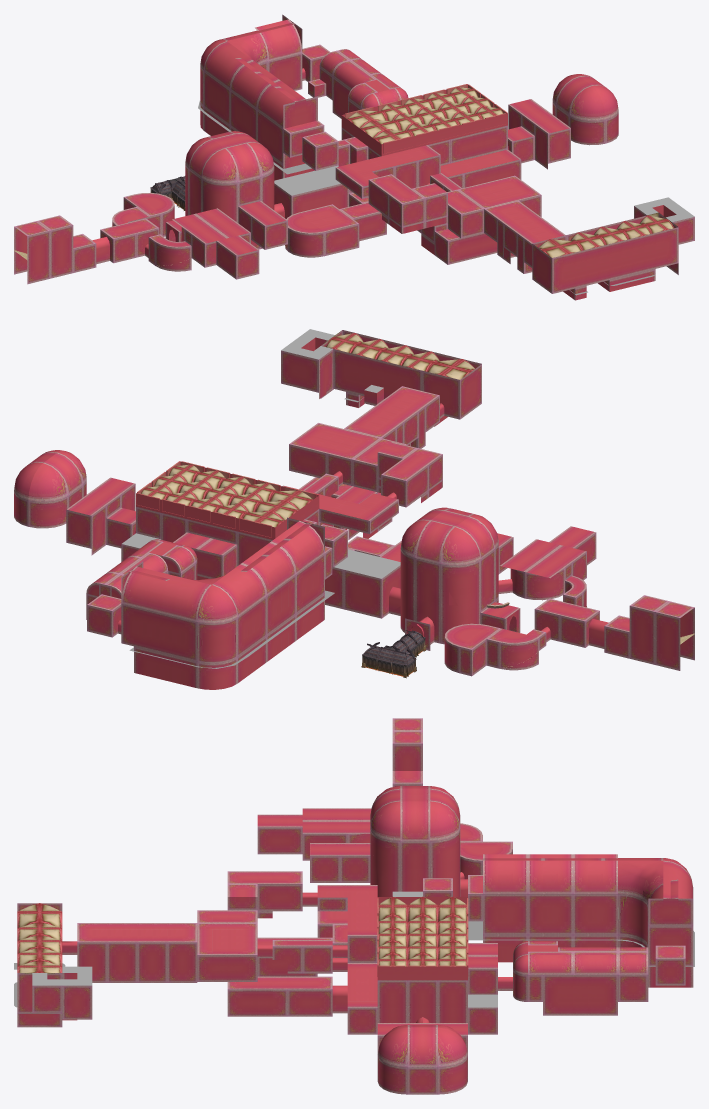
File: Ballroom01.fbx
3 renders of one model, top to bottom at view 1: azimuth 30°, elevation 25°; view 2: azimuth 150°, elevation 25°; view 3: azimuth 270°, elevation 25°, orthographic. The views are drawn at different scales.
Parts seen in each view (by area): view 1: PuzzleRoom01_room12_5_wall01, PuzzleRoom01_room08_wall01, PuzzleRoom01_room10_ceiling01, PuzzleRoom01_room10_wall01, PuzzleRoom01_room04_wall03, PuzzleRoom01_room07_wall01, PuzzleRoom01_room04_ceiling05, PuzzleRoom01_room12_ceiling02, PuzzleRoom01_room07_Ceiling01, PuzzleRoom01_room01_wall01, PuzzleRoom01_room01_ceiling01, PuzzleRoom01_room09_ceiling03 (+21 smaller); view 2: PuzzleRoom01_room10_wall01, PuzzleRoom01_room12_5_wall01, PuzzleRoom01_room10_ceiling01, PuzzleRoom01_room08_wall01, PuzzleRoom01_room01_wall01, PuzzleRoom01_room04_ceiling05, PuzzleRoom01_room12_ceiling02, PuzzleRoom01_room07_Ceiling01, PuzzleRoom01_room07_wall01, PuzzleRoom01_room04_wall02, PuzzleRoom01_room03_wall01, PuzzleRoom01_room01_ceiling01 (+19 smaller); view 3: PuzzleRoom01_room10_wall01, PuzzleRoom01_room10_ceiling01, PuzzleRoom01_room07_wall01, PuzzleRoom01_room07_Ceiling01, PuzzleRoom01_room04_wall04, PuzzleRoom01_room01_wall01, PuzzleRoom01_room04_ceiling05, PuzzleRoom01_room06_wall02, PuzzleRoom01_room12_ceiling02, PuzzleRoom01_room09_wall01, PuzzleRoom01_room09_ceiling03, PuzzleRoom01_room08_wall01 (+18 smaller).
Boxes of the visible parts, x1=… form: PuzzleRoom01_room12_5_wall01: x1=14, y1=197, x2=259, y2=284; PuzzleRoom01_room08_wall01: x1=532, y1=205, x2=694, y2=300; PuzzleRoom01_room10_ceiling01: x1=203, y1=14, x2=330, y2=133; PuzzleRoom01_room10_wall01: x1=200, y1=53, x2=324, y2=180; PuzzleRoom01_room04_wall03: x1=381, y1=113, x2=521, y2=188; PuzzleRoom01_room07_wall01: x1=368, y1=180, x2=541, y2=273; PuzzleRoom01_room04_ceiling05: x1=345, y1=84, x2=507, y2=153; PuzzleRoom01_room12_ceiling02: x1=14, y1=192, x2=258, y2=255; PuzzleRoom01_room07_Ceiling01: x1=369, y1=174, x2=565, y2=243; PuzzleRoom01_room01_wall01: x1=165, y1=163, x2=287, y2=249; PuzzleRoom01_room01_ceiling01: x1=166, y1=131, x2=287, y2=231; PuzzleRoom01_room09_ceiling03: x1=308, y1=49, x2=401, y2=107; PuzzleRoom01_room10_wall01: x1=87, y1=548, x2=332, y2=689; PuzzleRoom01_room12_5_wall01: x1=444, y1=532, x2=694, y2=676; PuzzleRoom01_room10_ceiling01: x1=87, y1=517, x2=331, y2=621; PuzzleRoom01_room08_wall01: x1=281, y1=330, x2=481, y2=426; PuzzleRoom01_room01_wall01: x1=400, y1=537, x2=520, y2=650; PuzzleRoom01_room04_ceiling05: x1=136, y1=461, x2=316, y2=537; PuzzleRoom01_room12_ceiling02: x1=445, y1=526, x2=694, y2=649; PuzzleRoom01_room07_Ceiling01: x1=289, y1=386, x2=442, y2=480; PuzzleRoom01_room07_wall01: x1=289, y1=396, x2=444, y2=507; PuzzleRoom01_room04_wall02: x1=121, y1=493, x2=275, y2=579; PuzzleRoom01_room03_wall01: x1=325, y1=565, x2=400, y2=618; PuzzleRoom01_room01_ceiling01: x1=415, y1=508, x2=519, y2=618; PuzzleRoom01_room10_wall01: x1=468, y1=894, x2=693, y2=987; PuzzleRoom01_room10_ceiling01: x1=468, y1=854, x2=693, y2=958; PuzzleRoom01_room07_wall01: x1=62, y1=884, x2=302, y2=982; PuzzleRoom01_room07_Ceiling01: x1=77, y1=871, x2=302, y2=954; PuzzleRoom01_room04_wall04: x1=347, y1=966, x2=497, y2=1034; PuzzleRoom01_room01_wall01: x1=310, y1=829, x2=467, y2=896; PuzzleRoom01_room04_ceiling05: x1=377, y1=896, x2=468, y2=977; PuzzleRoom01_room06_wall02: x1=227, y1=944, x2=347, y2=1016; PuzzleRoom01_room12_ceiling02: x1=257, y1=718, x2=512, y2=860; PuzzleRoom01_room09_wall01: x1=498, y1=969, x2=648, y2=1015; PuzzleRoom01_room09_ceiling03: x1=513, y1=941, x2=648, y2=974; PuzzleRoom01_room08_wall01: x1=17, y1=903, x2=92, y2=1027.
Size of what is drawn, in the model's own units: 207 by 32.5 by 181.
